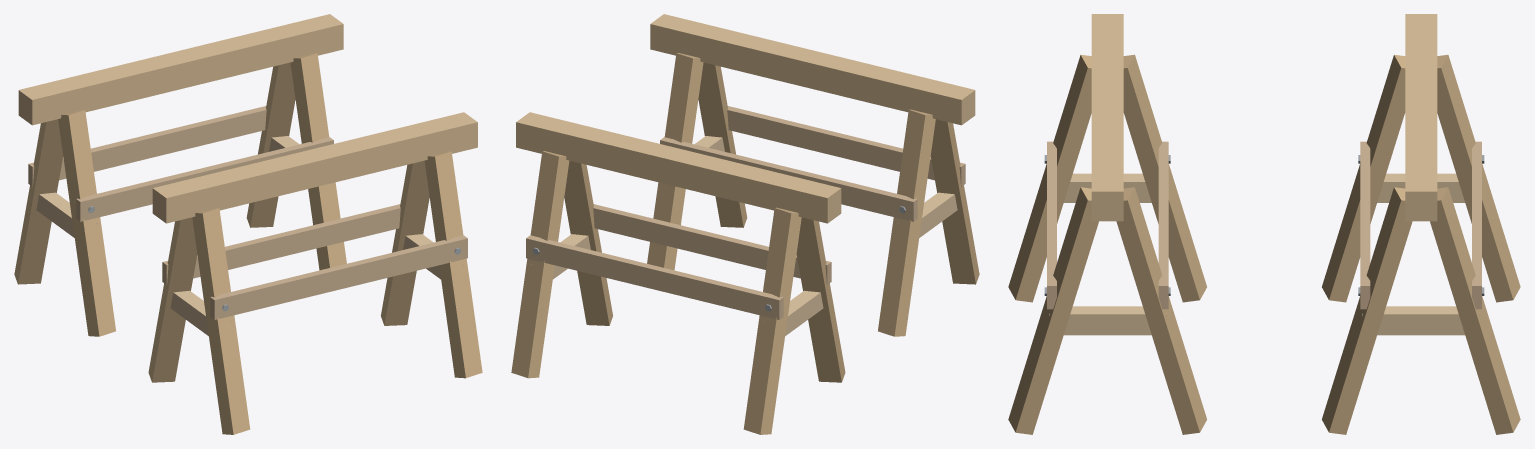
The model's file is SHOP_Sawhorses.glb.
3 views of the same model, side by side, from view 1: azimuth 30°, elevation 25°; view 2: azimuth 150°, elevation 25°; view 3: azimuth 270°, elevation 25° (orthographic). The views are drawn at different scales.
Parts seen in each view (by area): view 1: FrontLegs, RearLegs, FrontBeam, RearBeam, FrontBraces, RearBraces, FrontTies, RearTies; view 2: RearLegs, FrontLegs, RearBeam, FrontBeam, RearBraces, FrontBraces, RearTies, FrontTies; view 3: RearLegs, FrontLegs, RearBeam, FrontBeam, RearTies, FrontTies, RearBraces, FrontBraces.
Boxes of the visible parts, x1,y1,x2,y2 form: FrontLegs: [148, 151, 482, 434]; RearLegs: [14, 53, 346, 336]; FrontBeam: [152, 112, 477, 223]; RearBeam: [18, 14, 343, 125]; FrontBraces: [162, 204, 467, 319]; RearBraces: [28, 106, 333, 221]; FrontTies: [170, 234, 463, 336]; RearTies: [36, 136, 299, 237]; RearLegs: [511, 151, 845, 434]; FrontLegs: [647, 53, 979, 336]; RearBeam: [516, 112, 841, 223]; FrontBeam: [650, 14, 975, 125]; RearBraces: [526, 204, 831, 319]; FrontBraces: [660, 106, 965, 221]; RearTies: [530, 234, 823, 336]; FrontTies: [694, 136, 957, 237]; RearLegs: [1322, 54, 1520, 434]; FrontLegs: [1008, 54, 1206, 434]; RearBeam: [1405, 14, 1437, 221]; FrontBeam: [1091, 14, 1123, 221]; RearTies: [1362, 173, 1479, 335]; FrontTies: [1049, 173, 1166, 335]; RearBraces: [1360, 141, 1481, 309]; FrontBraces: [1047, 141, 1168, 309].
Size of the model in its own units: 1.18 by 0.8097 by 1.44.
